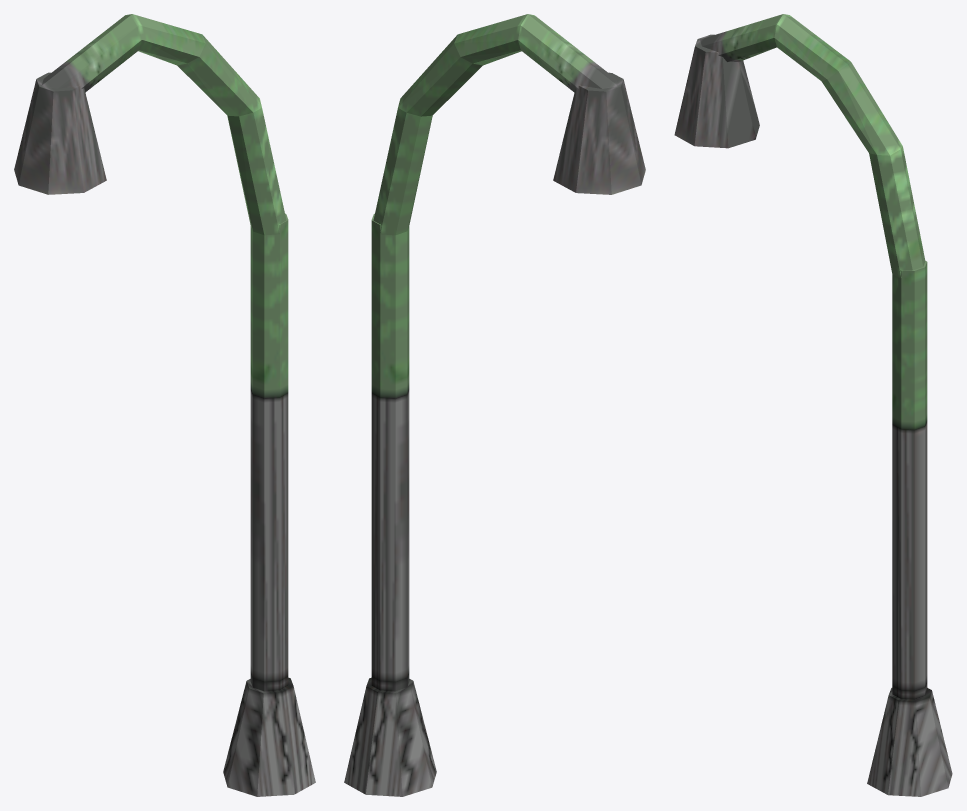
File: Slight.glb
3 views of the same model, side by side, from view 1: azimuth 30°, elevation 25°; view 2: azimuth 150°, elevation 25°; view 3: azimuth 330°, elevation 25° (orthographic). The views are drawn at different scales.
Parts seen in each view (by area): view 1: Slight; view 2: Slight; view 3: Slight.
Part boxes in pixels (box(x1,y1,x2,y2)): Slight: box(14, 14, 315, 796); Slight: box(344, 14, 645, 796); Slight: box(674, 14, 952, 796).
Size of the model in its own units: 74.04 by 192 by 21.09.
1 material, 1 textured.
